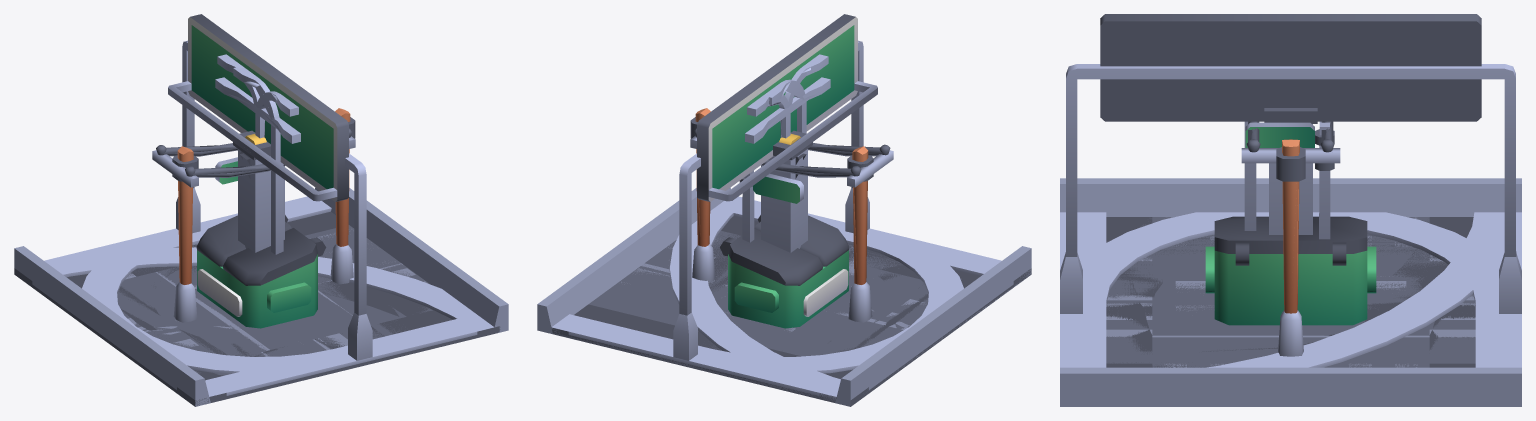
The model's file is roads.glb.
3 renders of one model, left to right at view 1: azimuth 30°, elevation 25°; view 2: azimuth 150°, elevation 25°; view 3: azimuth 270°, elevation 25°, orthographic. The views are drawn at different scales.
Parts seen in each view (by area): view 1: sign-highway-wide, road-straight-barrier, road-straight, road-bend, road-end-round, road-intersection, electricity-pole, dumpster, road-crossroad-path, road-crossing, bridge-pillar-wide, road-crossroad (+9 smaller); view 2: sign-highway-wide, road-intersection, road-straight-barrier, road-straight, road-end-round, road-bend, electricity-pole, dumpster, bridge-pillar-wide, lid-left, road-crossroad, road-sign-street (+9 smaller); view 3: sign-highway-wide, road-straight-barrier, road-straight, road-bend, road-end-round, road-crossroad, dumpster__lod, road-crossroad-path, electricity-pole, road-crossing, road-intersection, road-sign-street (+6 smaller).
Boxes of the visible parts, box(x1,y1,x2,y2) form: sign-highway-wide: box(168, 14, 372, 360); road-straight-barrier: box(14, 187, 508, 406); road-straight: box(48, 196, 483, 403); road-bend: box(48, 247, 493, 396); road-end-round: box(82, 201, 476, 374); road-intersection: box(14, 197, 500, 406); electricity-pole: box(152, 108, 355, 322); dumpster: box(197, 215, 326, 328); road-crossroad-path: box(123, 229, 428, 356); road-crossing: box(80, 225, 402, 377); bridge-pillar-wide: box(233, 130, 284, 252); road-crossroad: box(44, 196, 487, 389); sign-highway-wide: box(673, 14, 877, 360); road-intersection: box(551, 196, 1031, 403); road-straight-barrier: box(537, 187, 1031, 406); road-straight: box(552, 196, 999, 406); road-end-round: box(555, 198, 963, 373); road-bend: box(669, 202, 1001, 393); electricity-pole: box(690, 108, 893, 322); dumpster: box(719, 215, 848, 328); bridge-pillar-wide: box(761, 130, 812, 252); lid-left: box(728, 229, 823, 285); road-crossroad: box(551, 201, 1001, 401); road-sign-street: box(739, 170, 803, 242); sign-highway-wide: box(1060, 14, 1521, 313); road-straight-barrier: box(1060, 178, 1521, 406); road-straight: box(1060, 212, 1521, 367); road-bend: box(1060, 212, 1520, 367); road-end-round: box(1060, 212, 1521, 366); road-crossroad: box(1060, 212, 1521, 367); dumpster__lod: box(1205, 246, 1376, 325); road-crossroad-path: box(1106, 217, 1475, 367); electricity-pole: box(1241, 121, 1340, 356); road-crossing: box(1106, 217, 1469, 354); road-intersection: box(1060, 212, 1521, 318); road-sign-street: box(1245, 121, 1334, 239).
Size of what is drawn, in the model's own units: 1 by 0.7074 by 1.
Materials: 1 (1 with a texture image).
